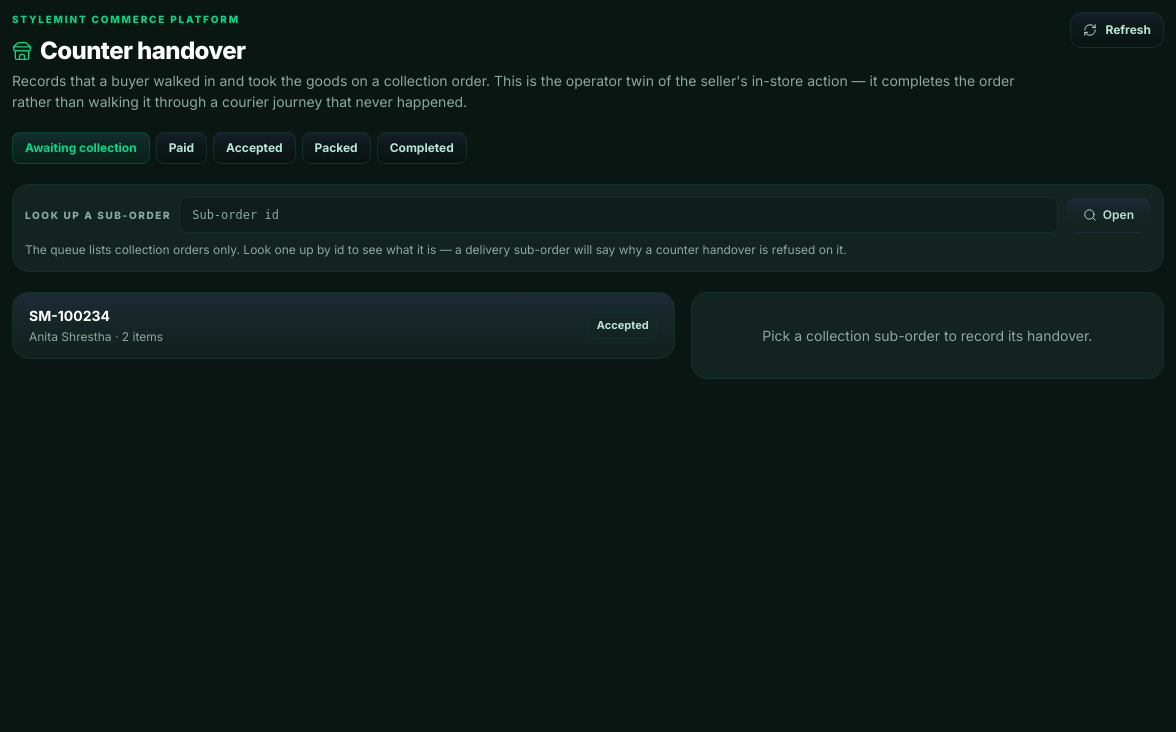
CounterHandoverPage › renders an absent counter as absent — never "Store", never the seller
Click the text "SM-100234": point(70, 316) [29,307,110,324]
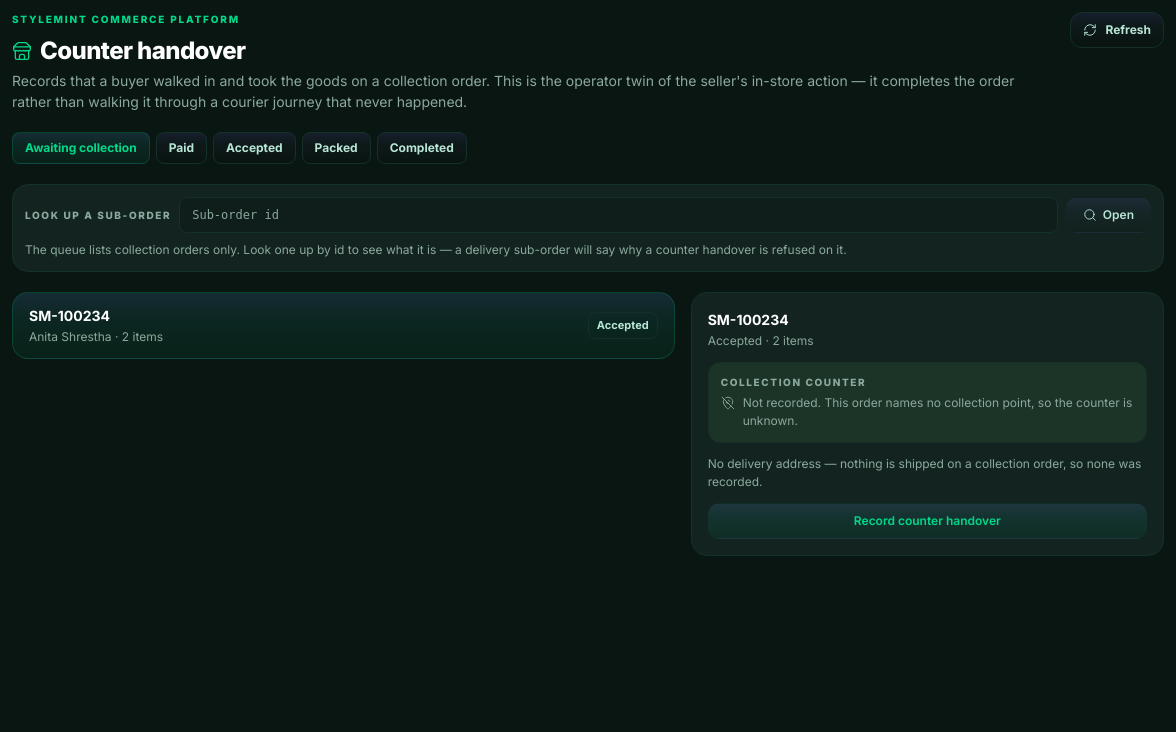
Result: the text "names no collection point" is shown at [743,395,1132,428]
